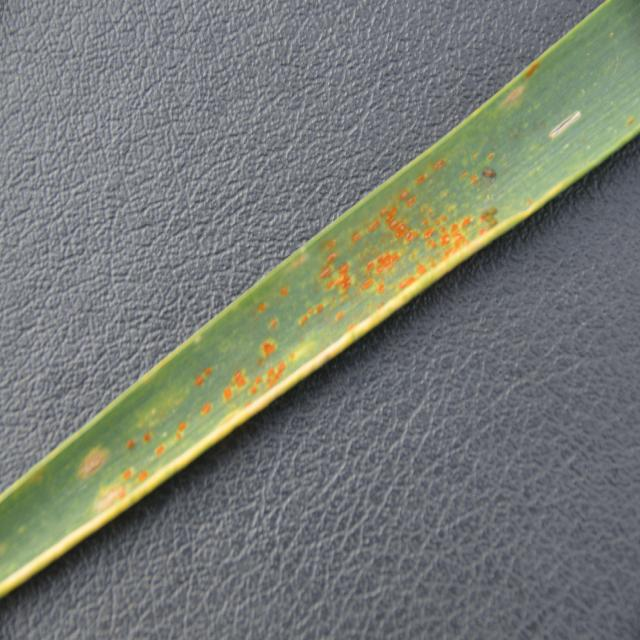wheat-stemrust: (321, 252, 351, 289), (387, 209, 419, 240), (442, 215, 472, 248), (395, 262, 429, 288), (365, 253, 404, 274), (265, 360, 286, 388), (231, 372, 247, 389), (423, 227, 437, 246), (223, 385, 232, 403), (263, 341, 274, 355)
